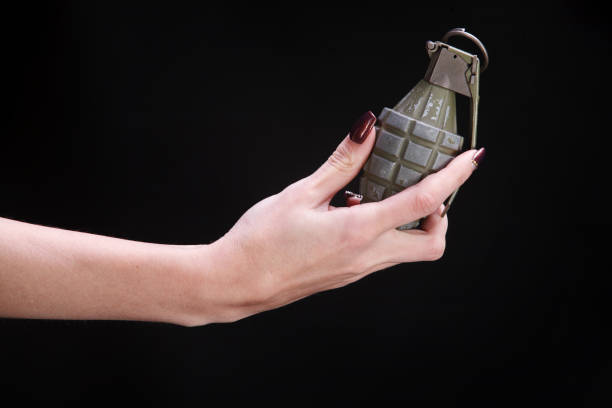e1: (361, 28, 489, 244)
